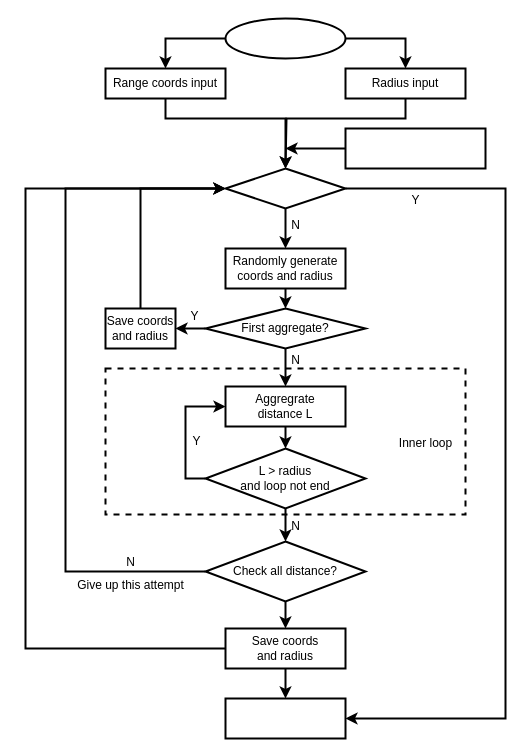
This 531x756 diagram has some shape labels left out. Here are the shapes that lost their labels. From the top down, the centre of each, then its label:
At point (285, 38): "Begin".
At point (415, 148): "Num of aggregrates: N".
At point (285, 188): "Curr num > N".
At point (285, 718): "Generate final model".
